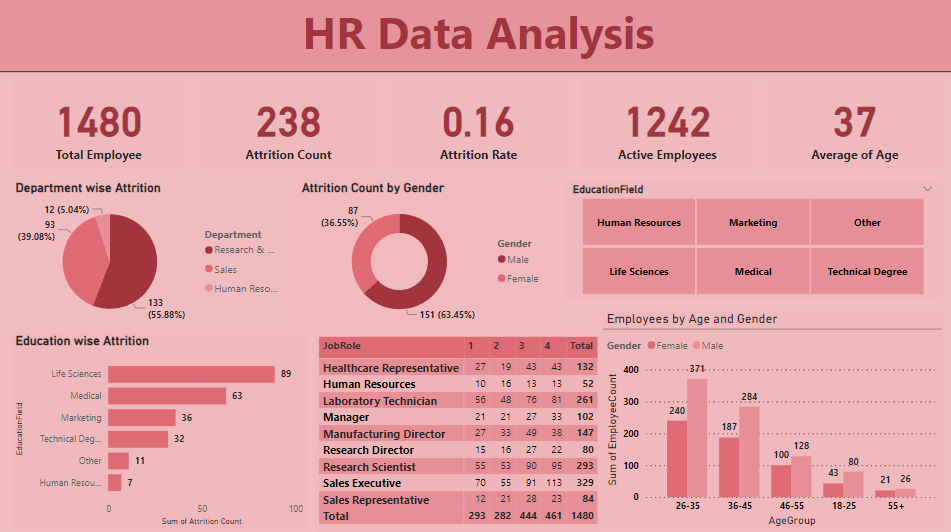

The page's visual inventory and layout, read from the dashboard file:
{"tool":"powerbi","page":{"name":"HR Attrition Data Analysis","canvas":[1280,720],"ordinal":0},"visuals":[{"type":"card","fields":{"Values":["Sum(Data File.EmployeeCount)"]},"box":[18.3,111.7,231.7,118.3],"z":0},{"type":"textbox","box":[0,0,1280,100],"z":1000},{"type":"card","fields":{"Values":["Sum(Data File.Attrition Count)"]},"box":[271.7,111.7,231.7,118.3],"z":2000},{"type":"card","fields":{"Values":["Data File.Attrition Rate1"]},"box":[525,111.7,231.7,118.3],"z":3000},{"type":"card","fields":{"Values":["Data File.Active Employees"]},"box":[776.7,111.7,231.7,118.3],"z":4000},{"type":"card","fields":{"Values":["Avg(Data File.Age)"]},"box":[1026.7,111.7,231.7,118.3],"z":5000},{"type":"pieChart","title":"Department wise Attrition","fields":{"Y":["Sum(Data File.Attrition Count)"],"Category":["Data File.Department"]},"box":[18.3,243.3,370,200],"z":6000},{"type":"clusteredColumnChart","title":"Employees by Age and Gender","fields":{"Category":["Data File.AgeGroup"],"Y":["Sum(Data File.EmployeeCount)"],"Series":["Data File.Gender"]},"box":[806.7,418.3,451.7,291.7],"z":7000},{"type":"pivotTable","fields":{"Rows":["Data File.JobRole"],"Columns":["Data File.JobSatisfaction"],"Values":["Sum(Data File.EmployeeCount)"]},"box":[423.3,448.3,381.7,271.7],"z":8000},{"type":"barChart","title":"Education wise Attrition","fields":{"Category":["Data File.EducationField"],"Y":["Sum(Data File.Attrition Count)"]},"box":[18.3,448.3,393.3,261.7],"z":9000},{"type":"donutChart","title":"Attrition Count by Gender","fields":{"Y":["Sum(Data File.Attrition Count)"],"Category":["Data File.Gender"]},"box":[400,243.3,336.7,200],"z":10000},{"type":"slicer","fields":{"Values":["Data File.EducationField"]},"box":[753.3,243.3,505,160],"z":11000}]}

Visuals, with their boxes in screenshot pixels (x1, y1, x2, y2), scaled from the page's 1280x720 canvas onto the 951x532 screenshot:
card - Sum(Data File.EmployeeCount): rect(14, 83, 186, 170)
textbox: rect(0, 0, 950, 74)
card - Sum(Data File.Attrition Count): rect(202, 83, 374, 170)
card - Data File.Attrition Rate1: rect(390, 83, 562, 170)
card - Data File.Active Employees: rect(577, 83, 749, 170)
card - Avg(Data File.Age): rect(763, 83, 935, 170)
"Department wise Attrition" pieChart: rect(14, 180, 288, 328)
"Employees by Age and Gender" clusteredColumnChart: rect(599, 309, 935, 525)
pivotTable - Data File.JobRole x Data File.JobSatisfaction: rect(314, 331, 598, 531)
"Education wise Attrition" barChart: rect(14, 331, 306, 525)
"Attrition Count by Gender" donutChart: rect(297, 180, 547, 328)
slicer - Data File.EducationField: rect(560, 180, 935, 298)
